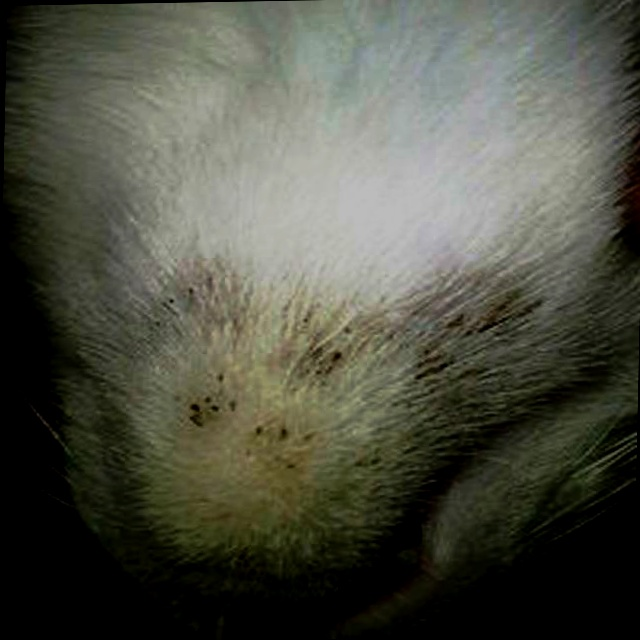acne: (181, 309, 350, 484)
